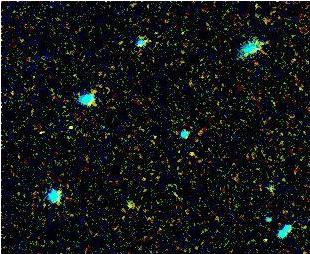star: (178, 132, 208, 162)
